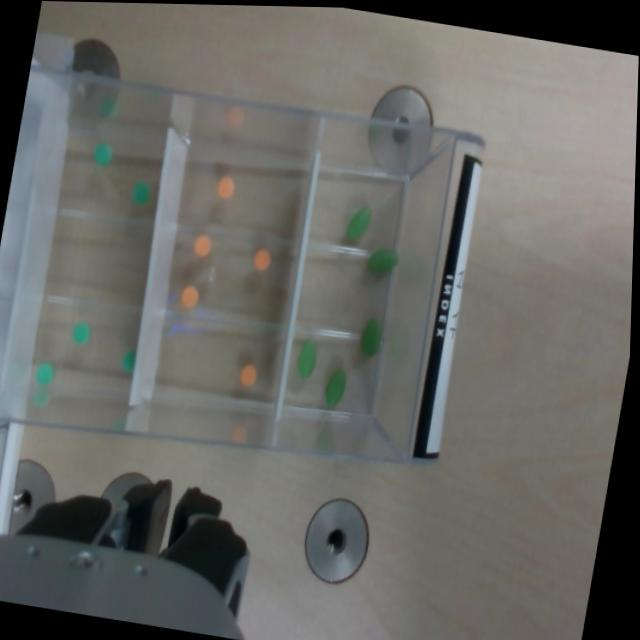famodine: (130, 180, 152, 206), (71, 320, 91, 347), (92, 141, 113, 166), (35, 362, 54, 385), (121, 349, 137, 372)
otillen_tab: (344, 203, 372, 243), (323, 366, 349, 408), (295, 338, 320, 380), (358, 316, 384, 356), (366, 245, 399, 276)
samsung_octylonium_tab: (180, 285, 200, 309), (216, 175, 236, 199), (193, 233, 212, 258), (239, 363, 258, 387), (253, 248, 272, 271)
